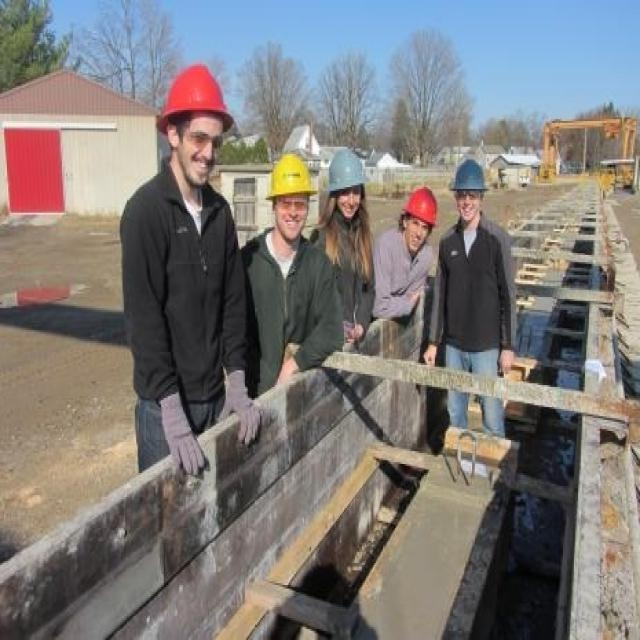Con_Casco: (268, 153, 316, 231)
